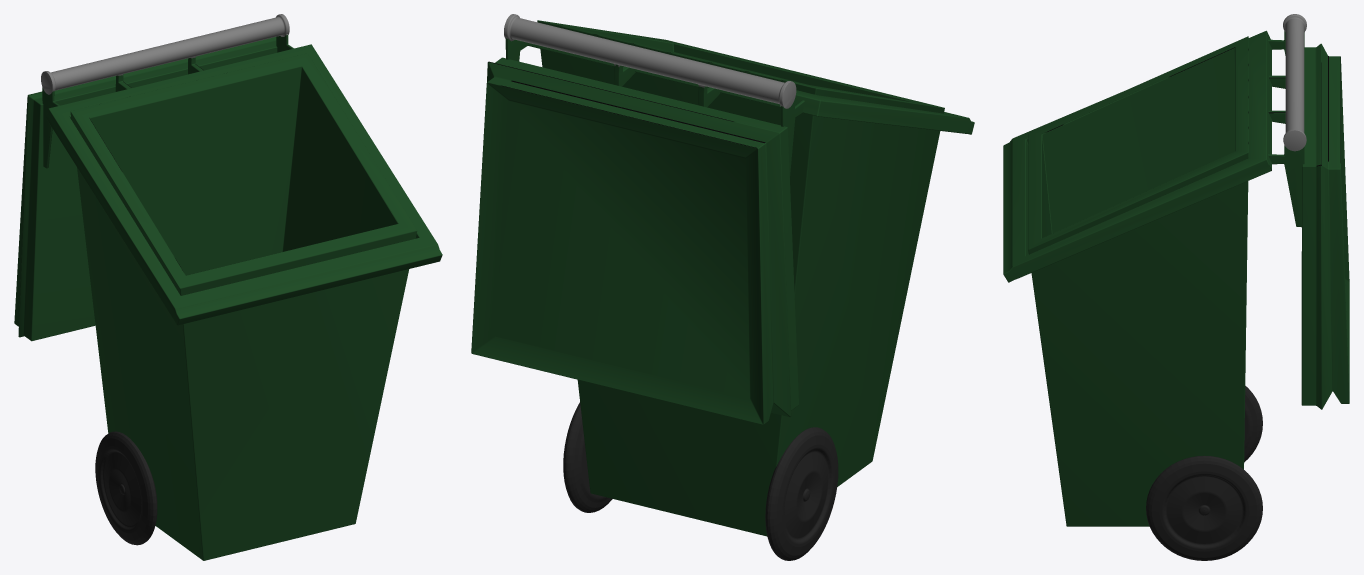
Rendered from LixeiraGrande.fbx.
The picture shows the model from 3 angles, left to right: view 1: azimuth 30°, elevation 25°; view 2: azimuth 150°, elevation 25°; view 3: azimuth 270°, elevation 25°; orthographic projection. The views are drawn at different scales.
Visible parts, largest first — view 1: LixeiraGrande; view 2: LixeiraGrande; view 3: LixeiraGrande.
Part boxes in pixels (x1=…): LixeiraGrande: x1=14, y1=14, x2=442, y2=560; LixeiraGrande: x1=471, y1=14, x2=974, y2=560; LixeiraGrande: x1=1003, y1=14, x2=1349, y2=560.
Size of the model in its own units: 27 by 42.87 by 30.13.
